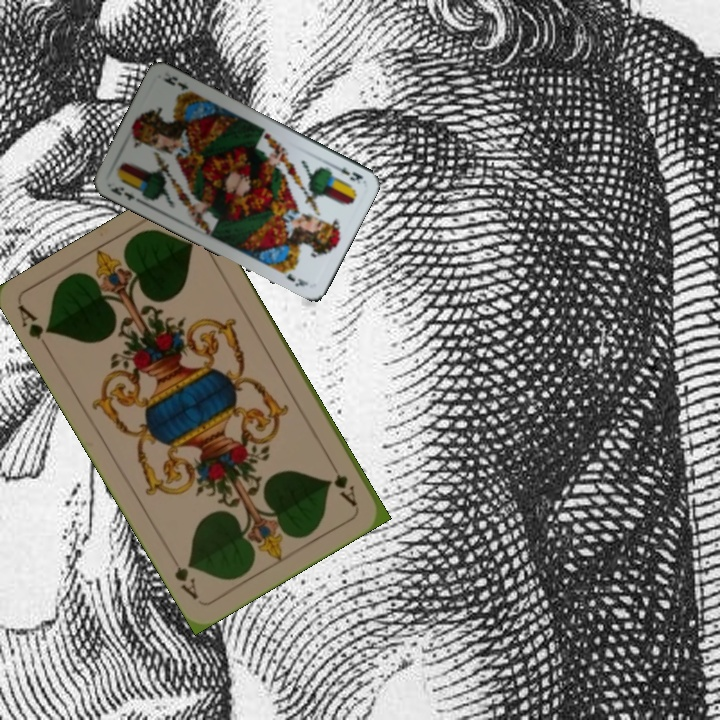EK: (328, 161, 366, 186), (106, 182, 143, 205)
GA: (14, 301, 55, 354), (329, 469, 360, 509)
